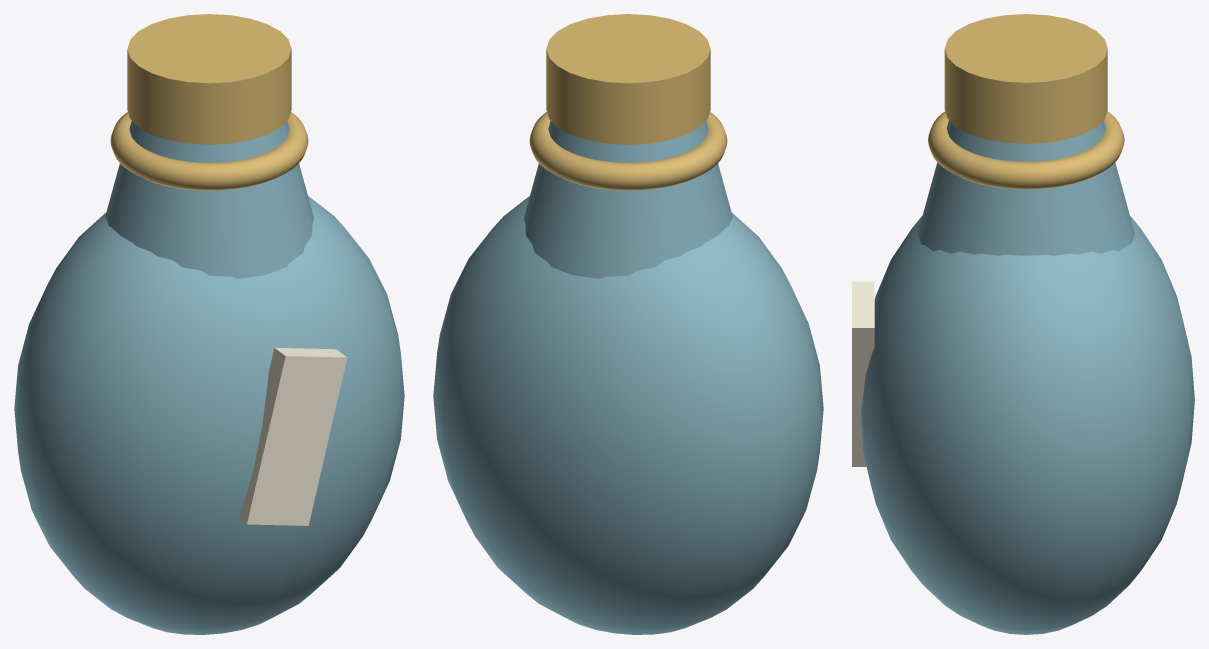
Rendered from bottle.glb.
The picture shows the model from 3 angles, left to right: view 1: azimuth 30°, elevation 25°; view 2: azimuth 150°, elevation 25°; view 3: azimuth 270°, elevation 25°; orthographic projection.
Bounding box in the file's own units: 0.72 × 1.12 × 0.61.
